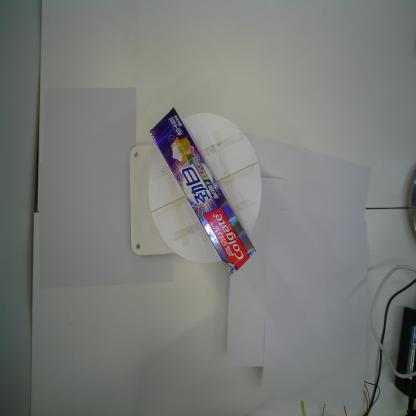Personal Hygiene: (150, 106, 256, 277)
